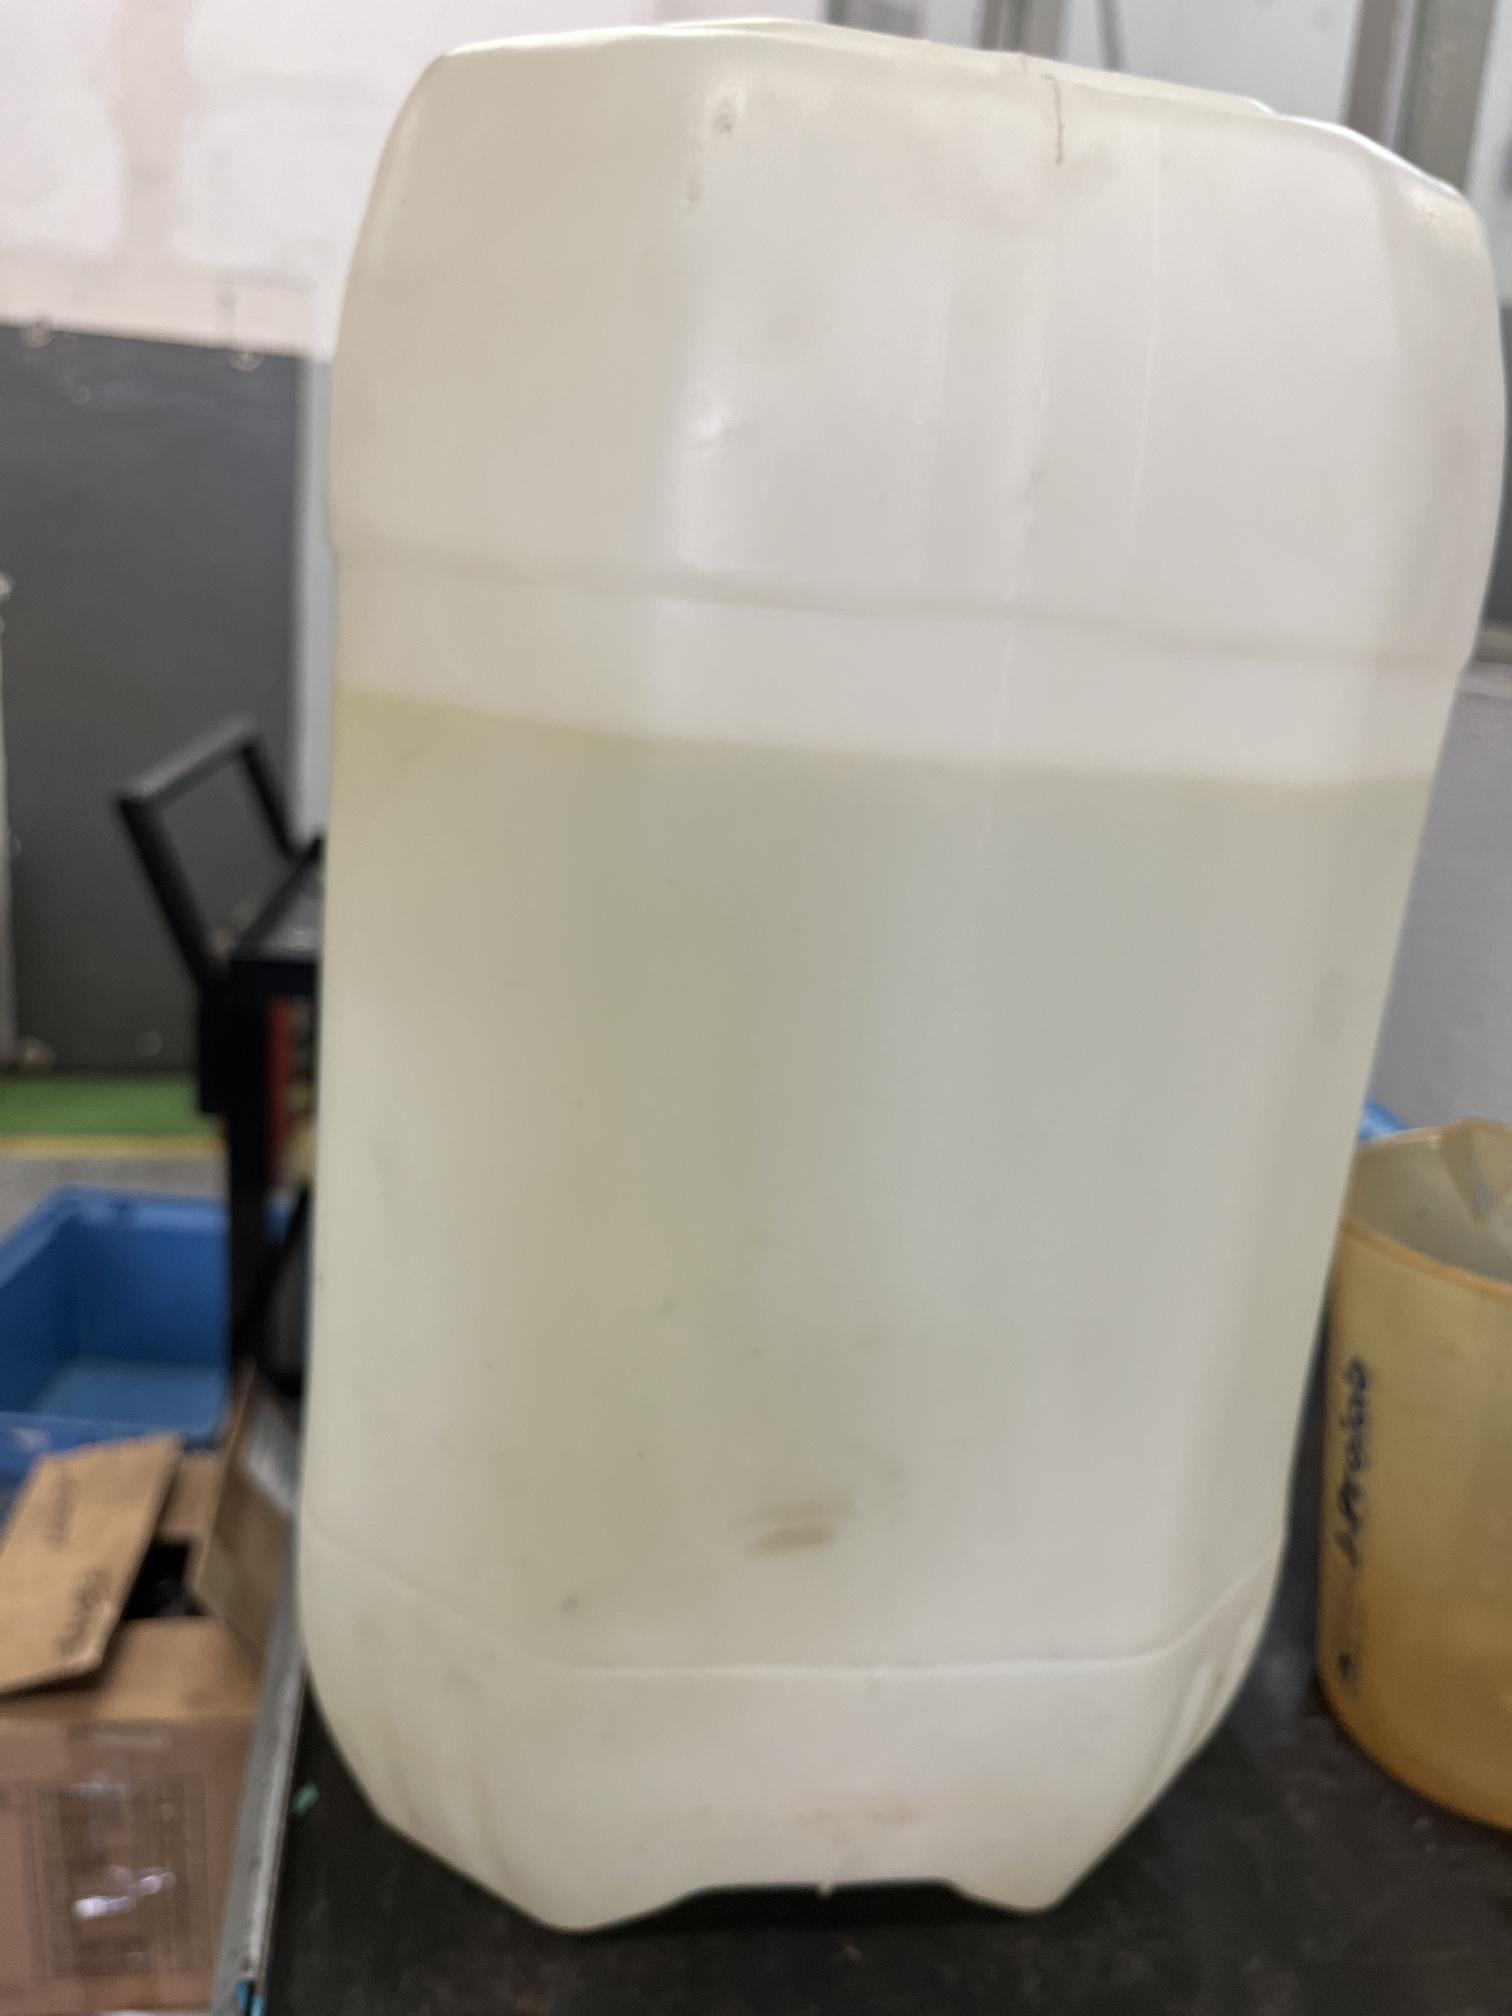Galao: (305, 65, 1370, 1955)
